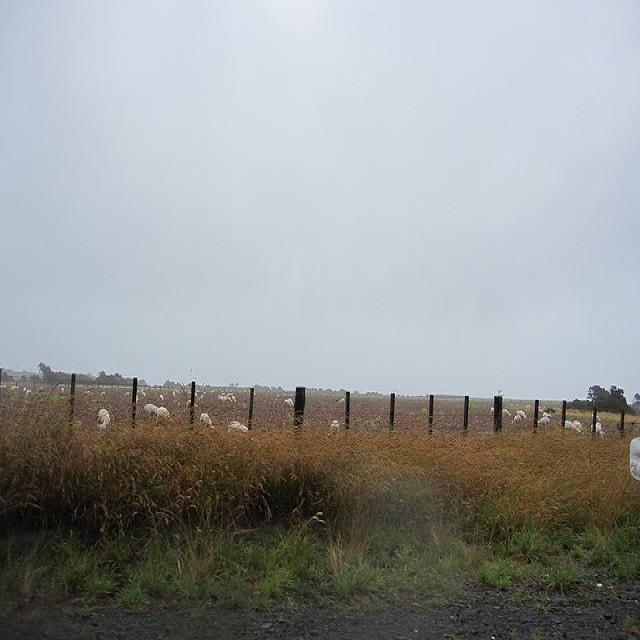Sheep: (11, 372, 573, 431)
